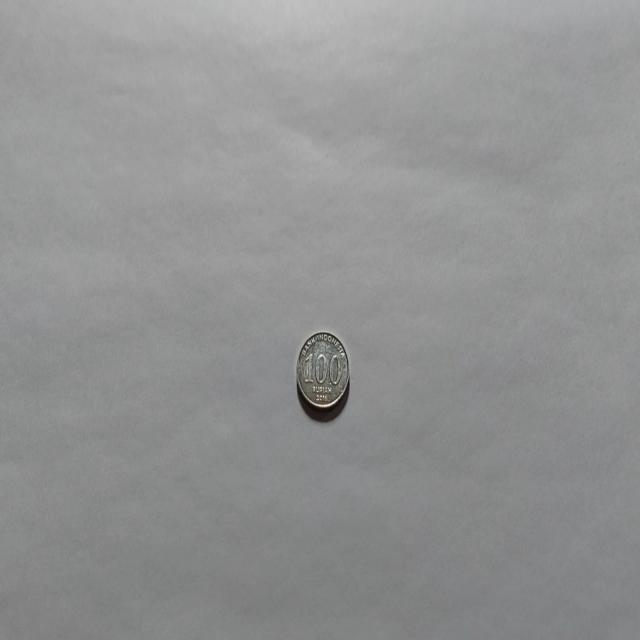seratus rupiah: (294, 329, 350, 417)
